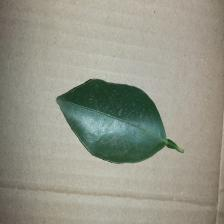healthy: (66, 81, 158, 162)
